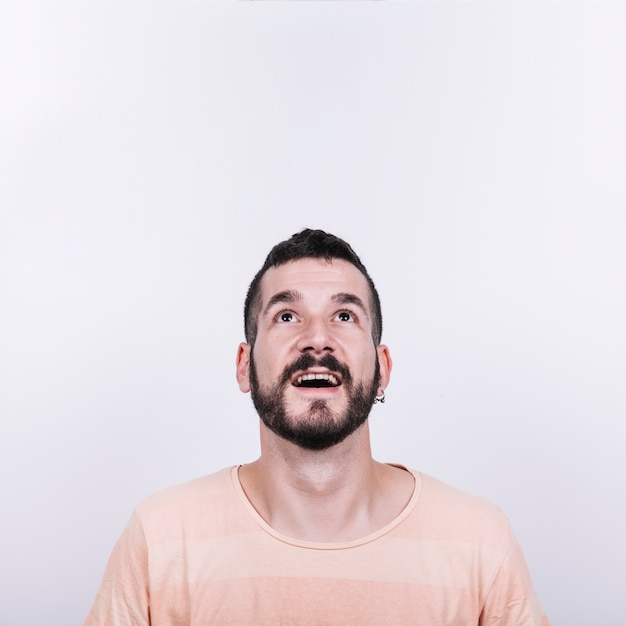young: (214, 221, 418, 459)
